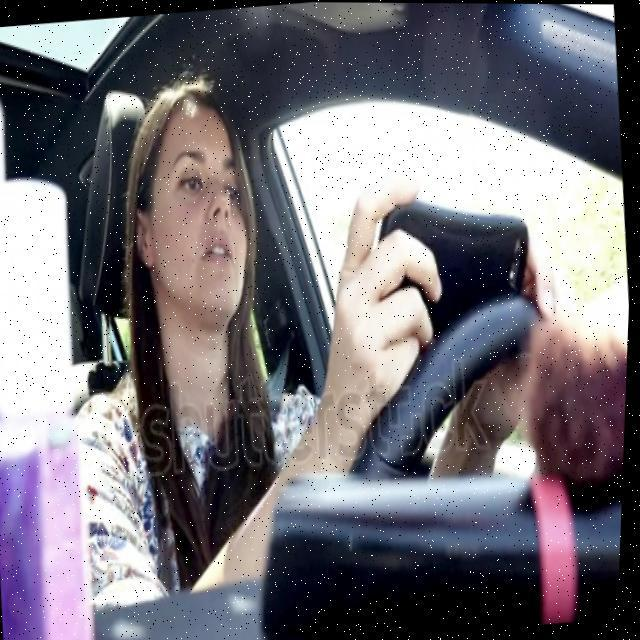PhoneCall: (367, 187, 540, 353)
